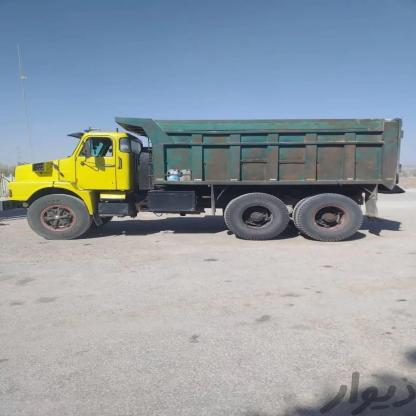Truck: (1, 111, 413, 243)
